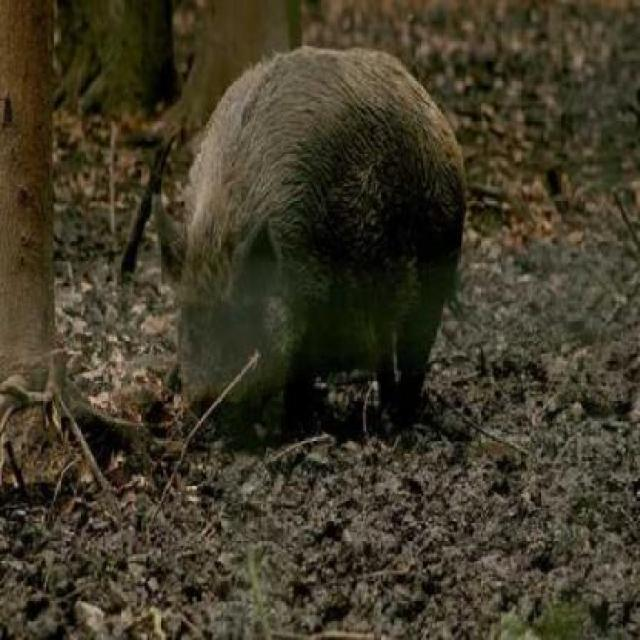Boar: (100, 0, 494, 445)
